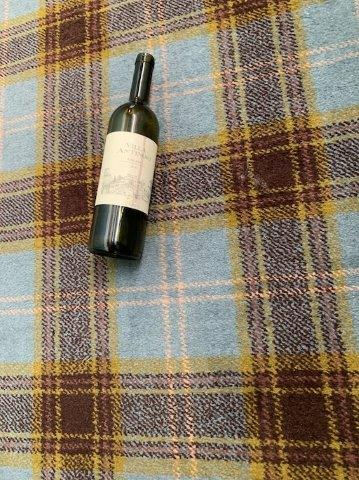botolkaca: (86, 52, 159, 262)
